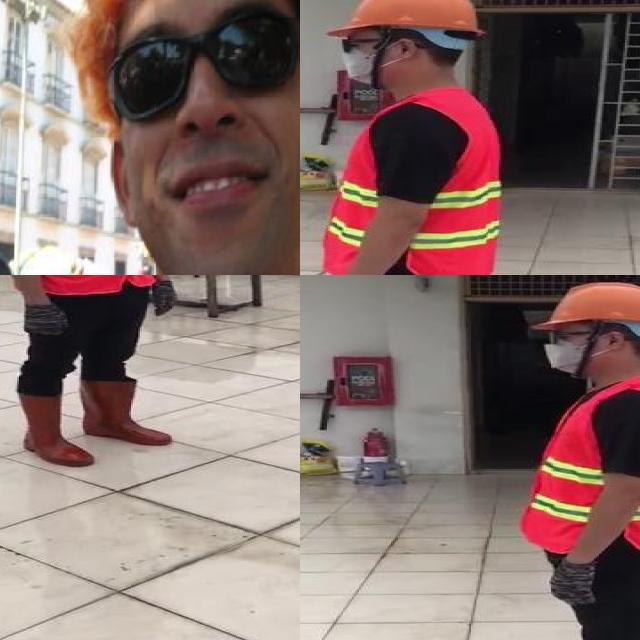boots: (78, 375, 176, 449), (20, 386, 93, 471)
face_mask: (332, 34, 410, 86), (535, 326, 594, 376)
face_nomask: (109, 15, 300, 251)
glasses: (104, 7, 300, 133)
hand_glove: (549, 557, 603, 606), (17, 302, 74, 337), (149, 275, 184, 317)
head_helmet: (323, 0, 485, 38), (529, 280, 640, 332)
person: (300, 0, 517, 275), (497, 277, 640, 640), (0, 275, 182, 468)
vest: (313, 88, 500, 275), (526, 381, 640, 553)
